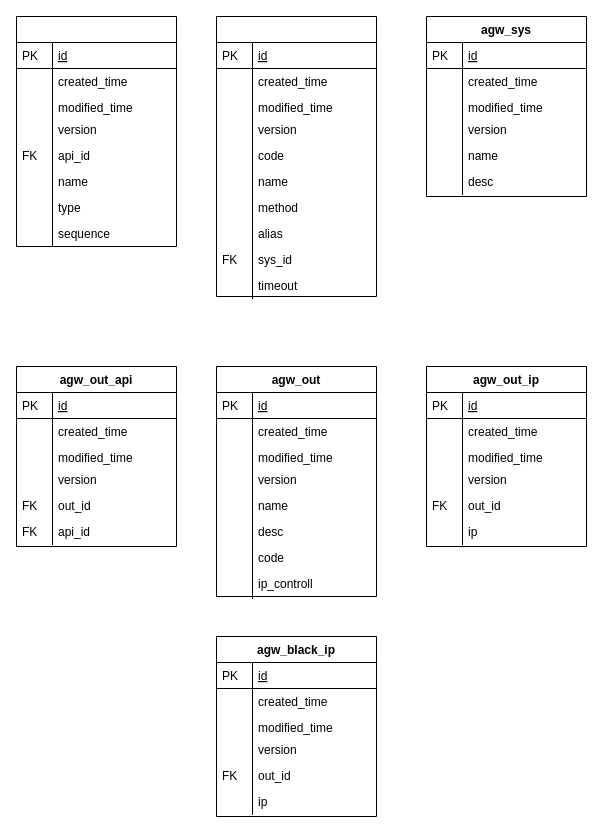
Image size: 603x833. Some labels were removed from this diagram. Here are the shapes that lost their labels. From the top down, the box of each, then its label:
(16, 16, 176, 246): agw_api_param
(216, 16, 376, 296): agw_api
